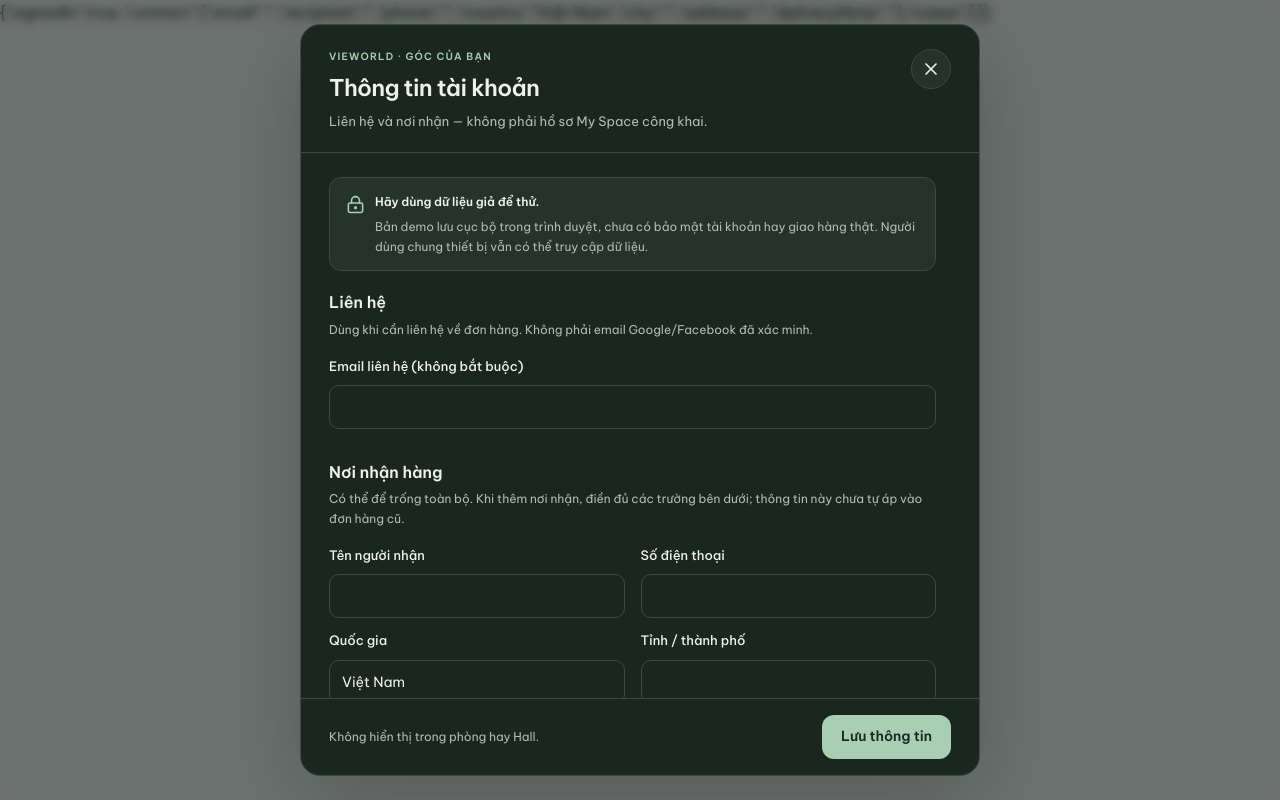
Contact is private, minimal, validated and separate from public My Space › account form labels fields and gives explicit save feedback
In the field labelled "Email liên hệ (không bắt buộc)": coordinates (632, 407) [329,385,936,429], type "local@example.test"
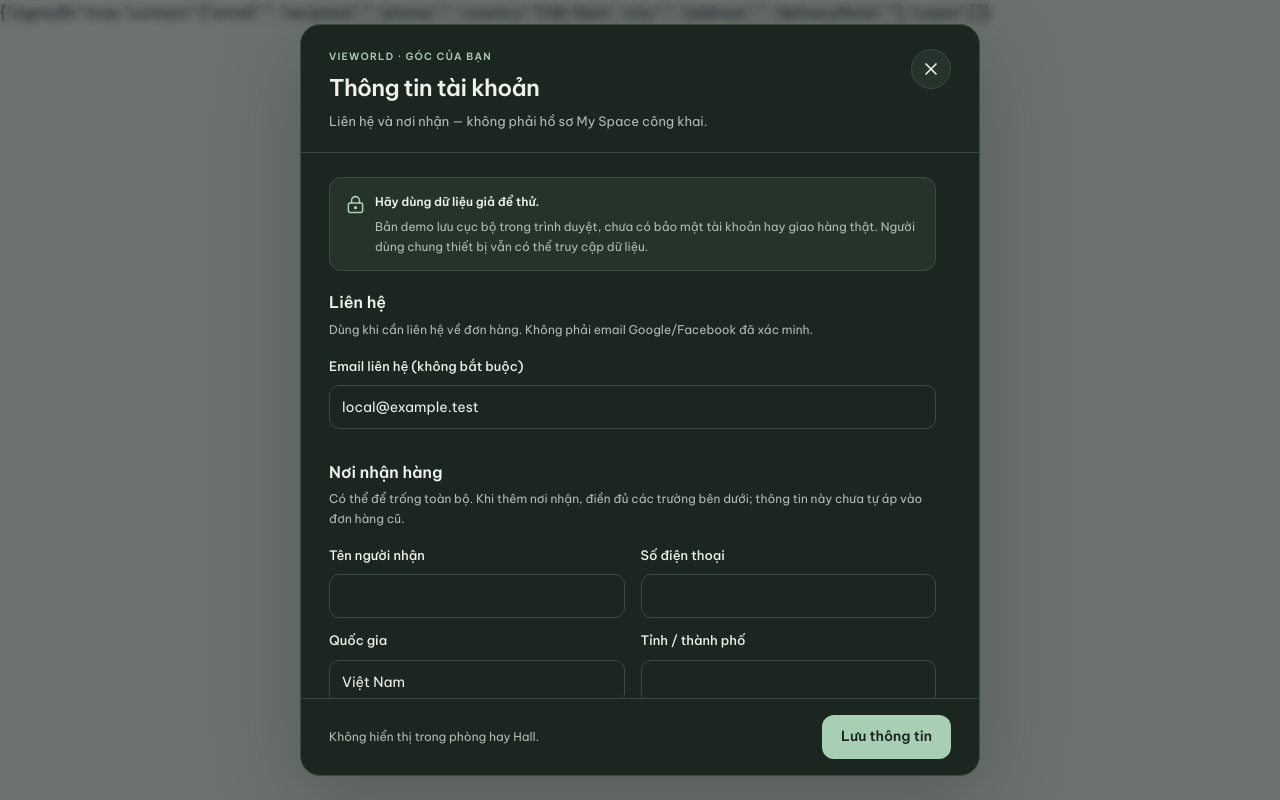
Click the button "Lưu thông tin": coordinates (886, 737) [822,715,951,759]
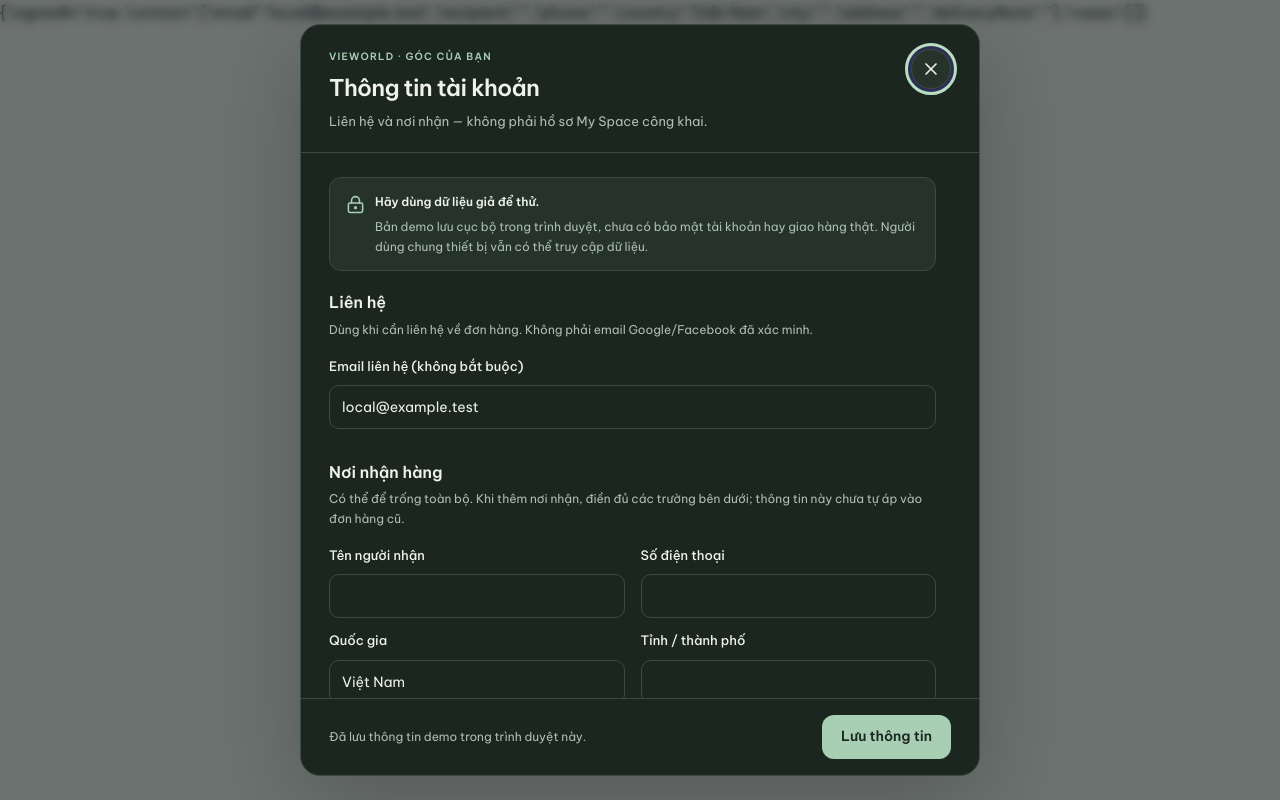
expect the footer is shown: met, box [301,698,979,775]
expect the message reads "Đã lưu thông tin demo trong trình duyệt này.": met, box [329,729,586,744]
expect the text with test id "account-probe" shows "local@example.test": met, box [0,2,1146,22]
